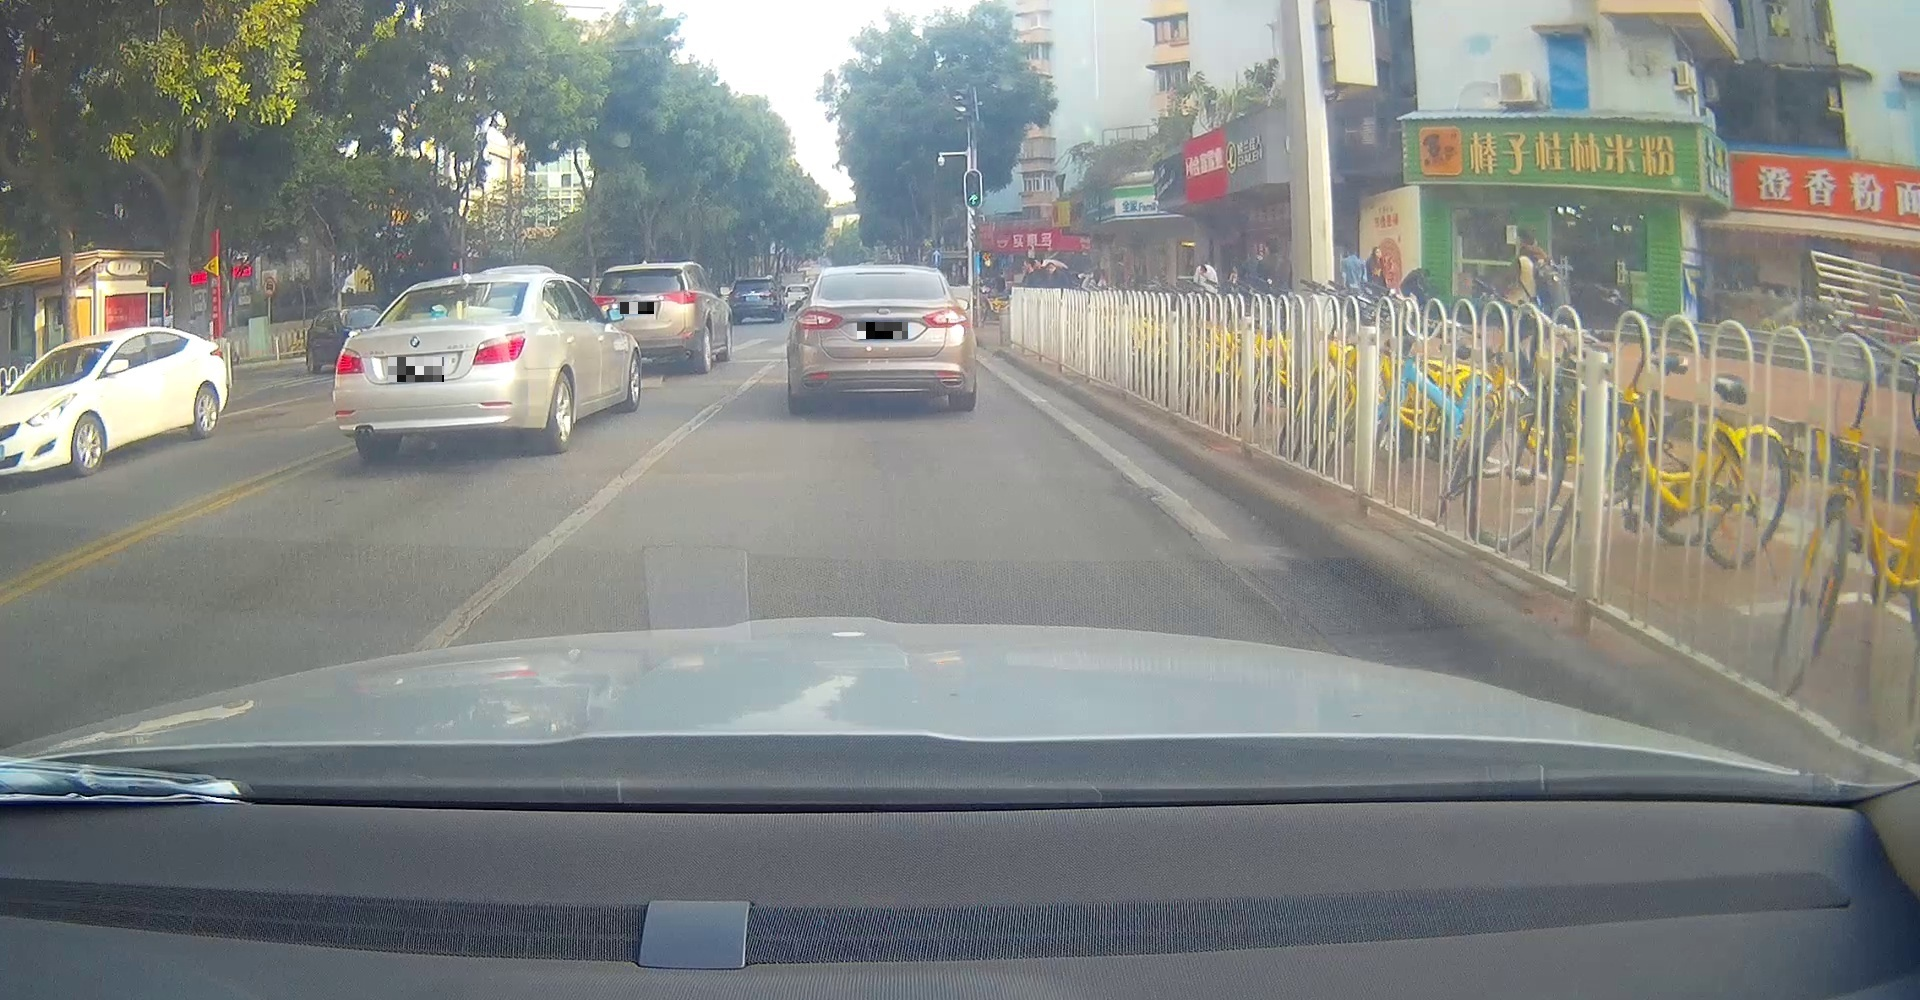L_light: (795, 308, 843, 330), (335, 352, 366, 376), (592, 296, 617, 307), (729, 293, 740, 299)
R_light: (471, 329, 526, 365), (922, 306, 968, 327), (657, 291, 697, 305), (759, 291, 772, 299)
T_light: (856, 270, 905, 275), (450, 282, 479, 287), (632, 268, 658, 273), (745, 278, 759, 282)
day-no: (331, 274, 549, 456), (787, 264, 973, 409), (590, 263, 697, 376), (728, 277, 778, 324)
plate_1: (389, 357, 444, 382)
plate_2: (620, 302, 654, 313)
plate_3: (857, 322, 908, 339)
